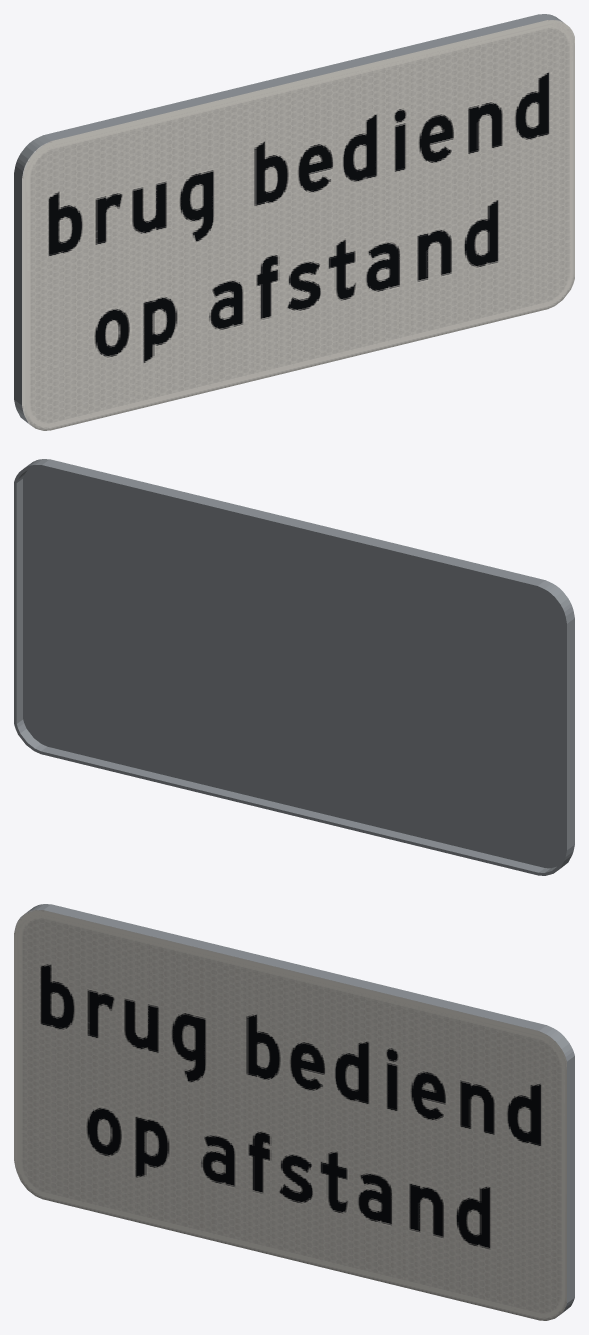
3 renders of one model, top to bottom at view 1: azimuth 30°, elevation 25°; view 2: azimuth 150°, elevation 25°; view 3: azimuth 330°, elevation 25°, orthographic.
Parts seen in each view (by area): view 1: cat_a5e31e940279b176; view 2: cat_a5e31e940279b176; view 3: cat_a5e31e940279b176.
Boxes of the visible parts, left/top/right/bottom form: cat_a5e31e940279b176: left=14, top=14, right=574, bottom=430; cat_a5e31e940279b176: left=14, top=459, right=574, bottom=875; cat_a5e31e940279b176: left=14, top=904, right=574, bottom=1320.
Size of the model in its own units: 0.6 by 0.015 by 0.3.
2 materials, 1 textured.
